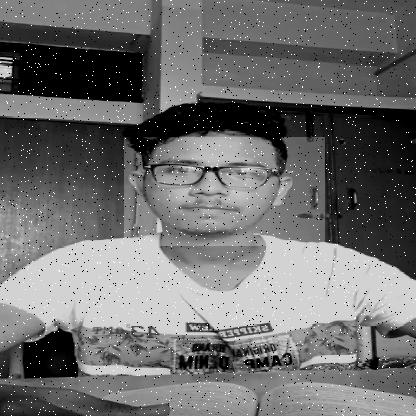Normal: (124, 137, 325, 246)
